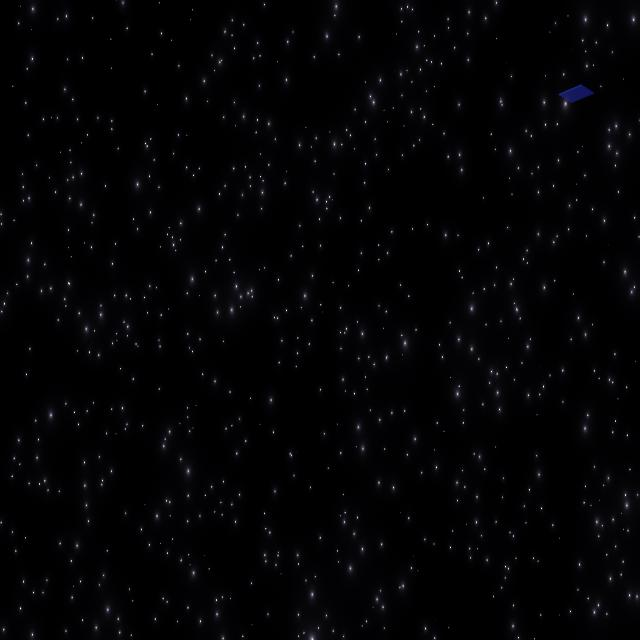large_debris: (559, 82, 590, 110)
